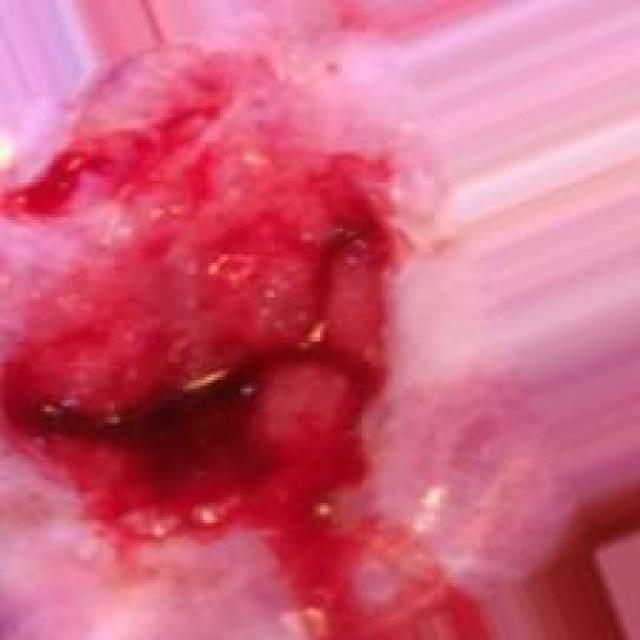type-1: (0, 30, 630, 640)
